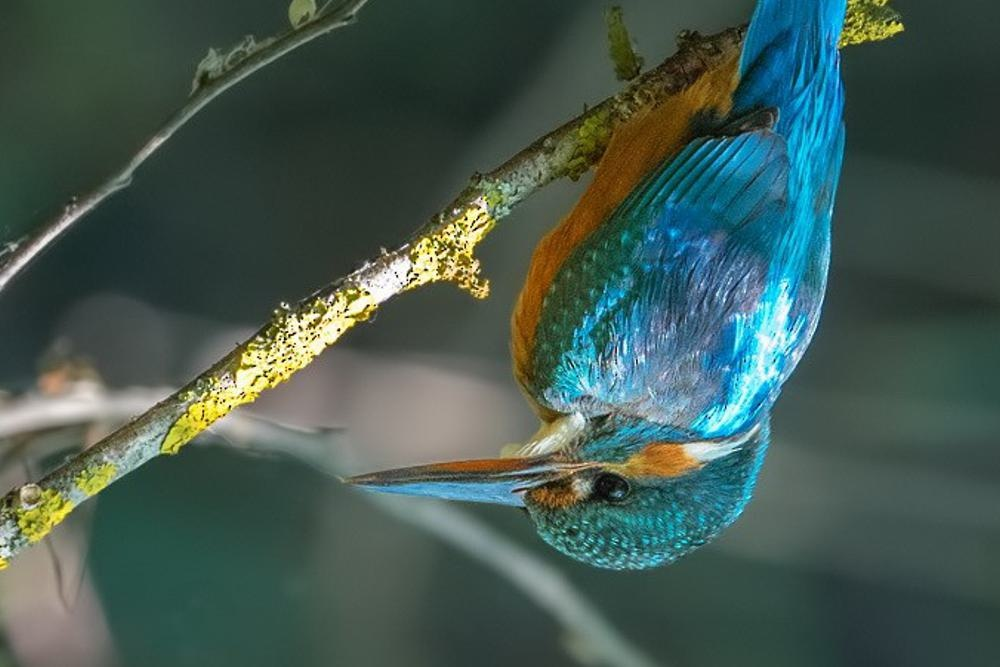kingfisher: (334, 2, 881, 570)
